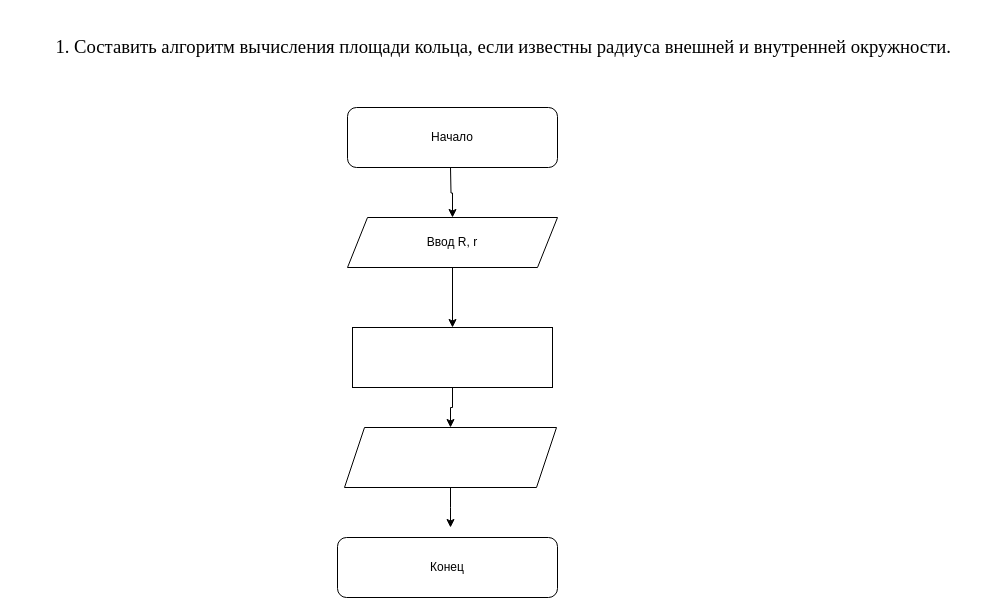
Image size: 984x615. Some labels were removed from this diagram. The shapes that lost their labels are listed below. From the top down, each one's box as (x1, y1, x2, y2) in pixels, then its label:
(352, 326, 552, 388): S = π ⋅ ( R 2 − r 2 )
(344, 426, 556, 488): Вывод S
